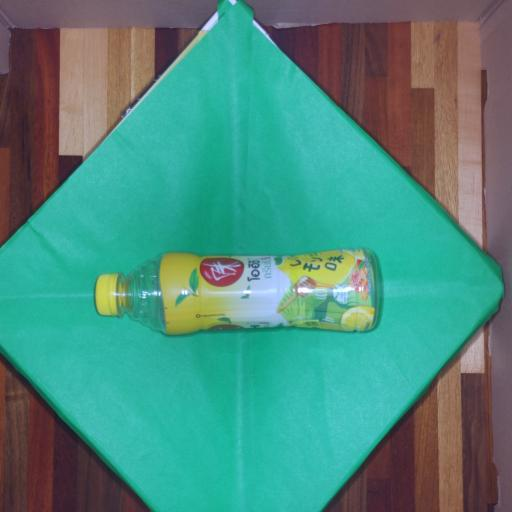bottle: (88, 227, 397, 347)
